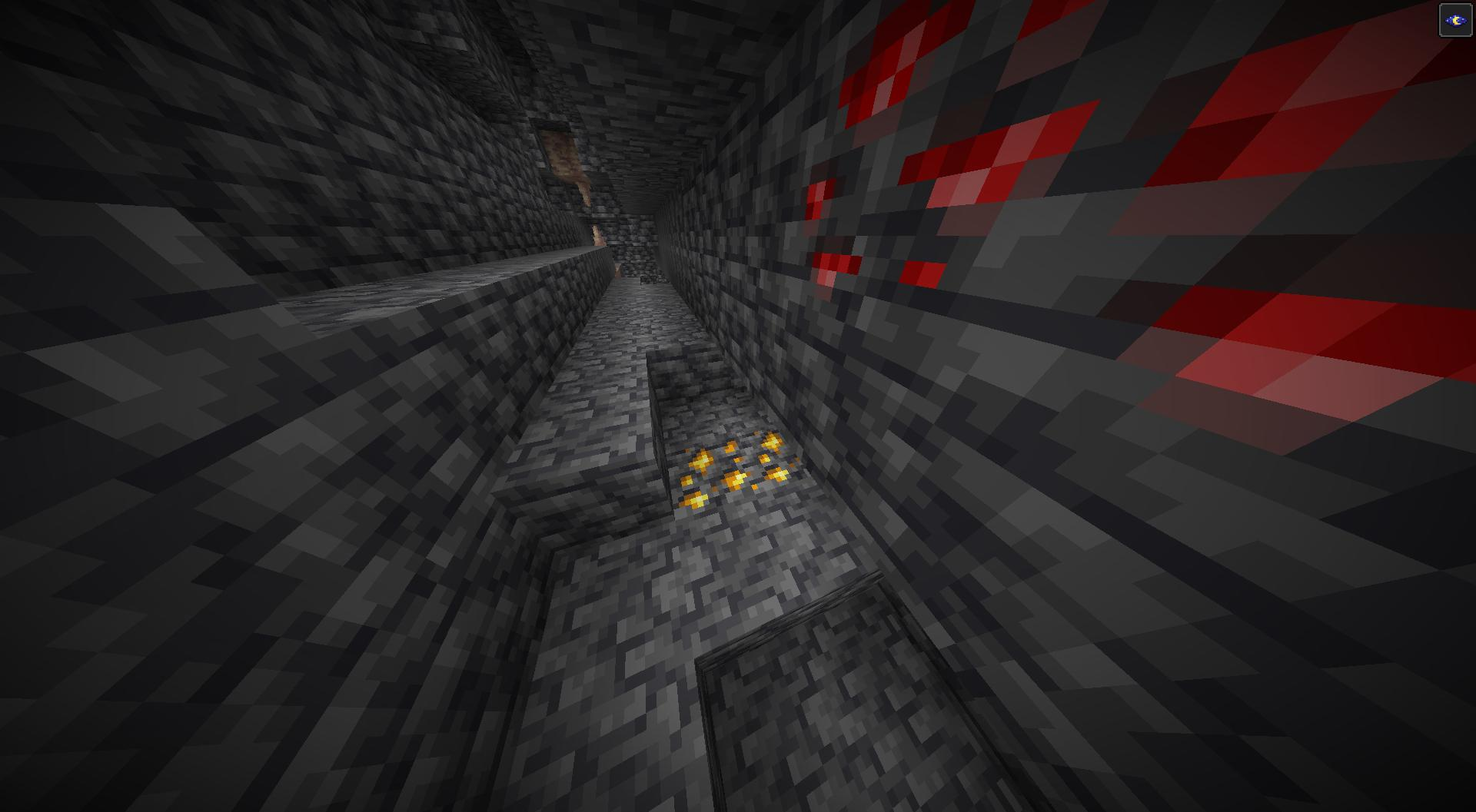gold ore: (662, 435, 751, 510)
redstone ore: (793, 0, 1476, 367)
